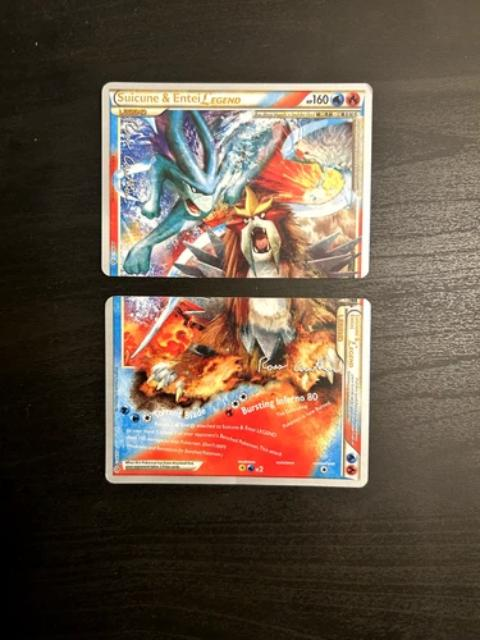Card: (98, 78, 376, 282), (100, 293, 373, 492)
Name: (112, 89, 248, 107), (344, 310, 364, 377)
